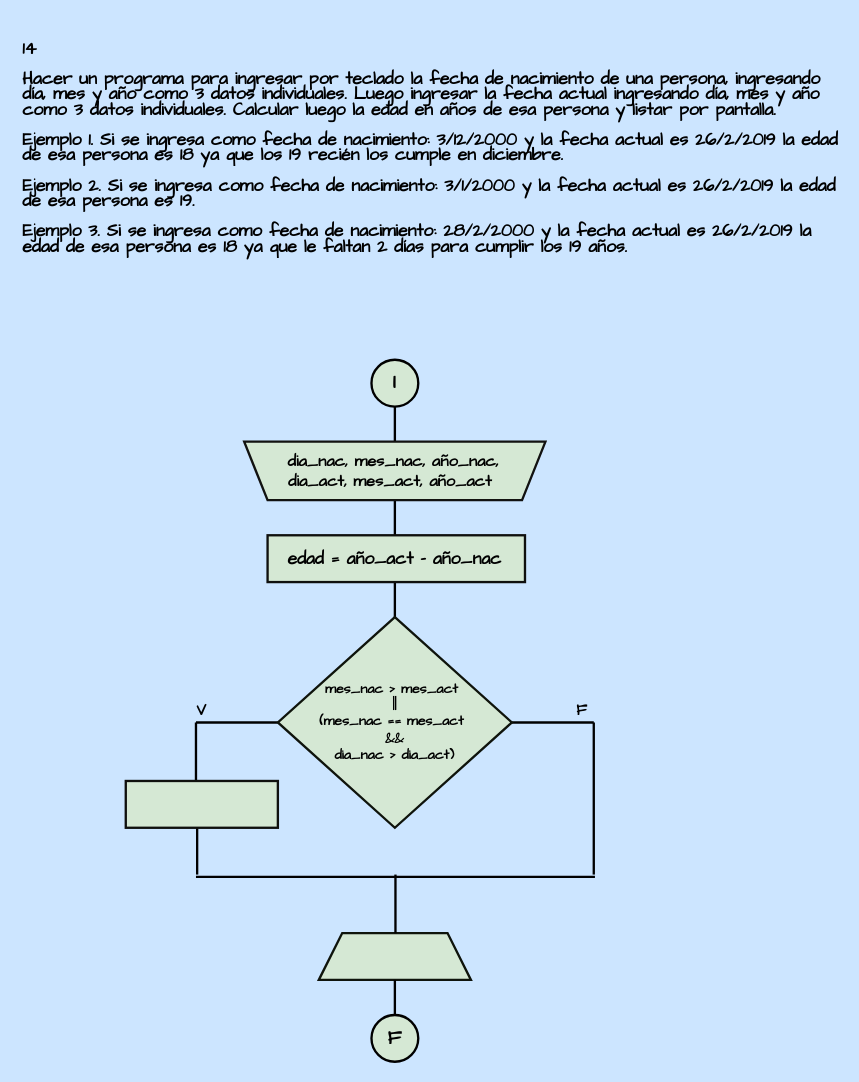
This 859x1082 diagram has some shape labels left out. The centre of each missing label's shape, as x and y in pixels:
"edad" goes at point 394,955.
"edad = edad - 1" goes at point 201,803.
